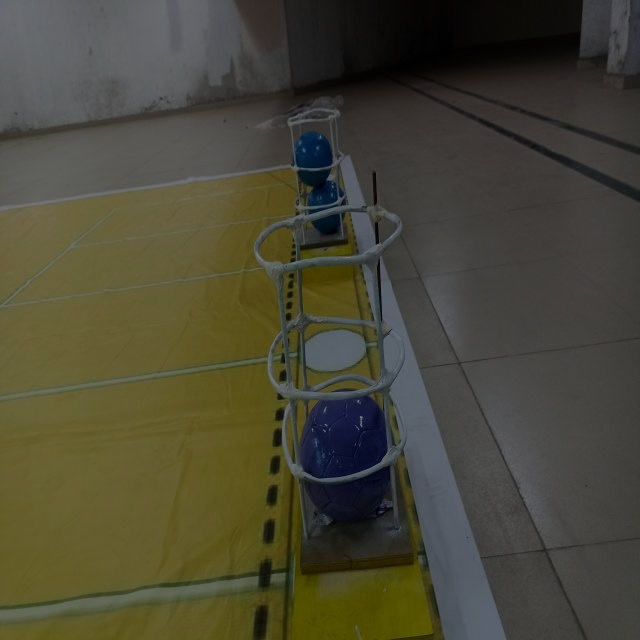blue_ball: (292, 126, 334, 188), (306, 182, 346, 236)
purple_ball: (296, 386, 394, 528)
silo: (253, 198, 404, 544), (286, 104, 352, 246)
